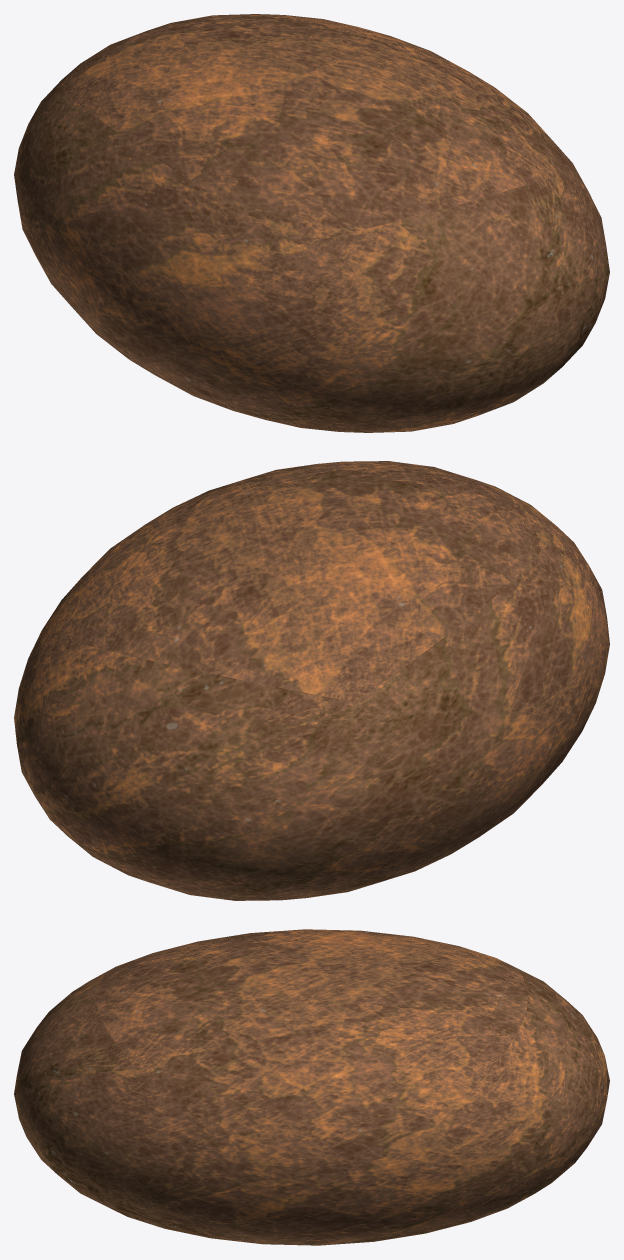
The model's file is Stone.fbx.
3 renders of one model, top to bottom at view 1: azimuth 30°, elevation 25°; view 2: azimuth 150°, elevation 25°; view 3: azimuth 270°, elevation 25°, orthographic. The views are drawn at different scales.
Visible parts, largest first — view 1: Stone1; view 2: Stone1; view 3: Stone1.
Part boxes in pixels (<box>): Stone1: <box>14,14,609,432</box>; Stone1: <box>14,461,609,900</box>; Stone1: <box>14,929,609,1245</box>.
Size of the model in its own units: 0.1734 by 0.1114 by 0.2401.
Materials: 1 (1 with a texture image).
